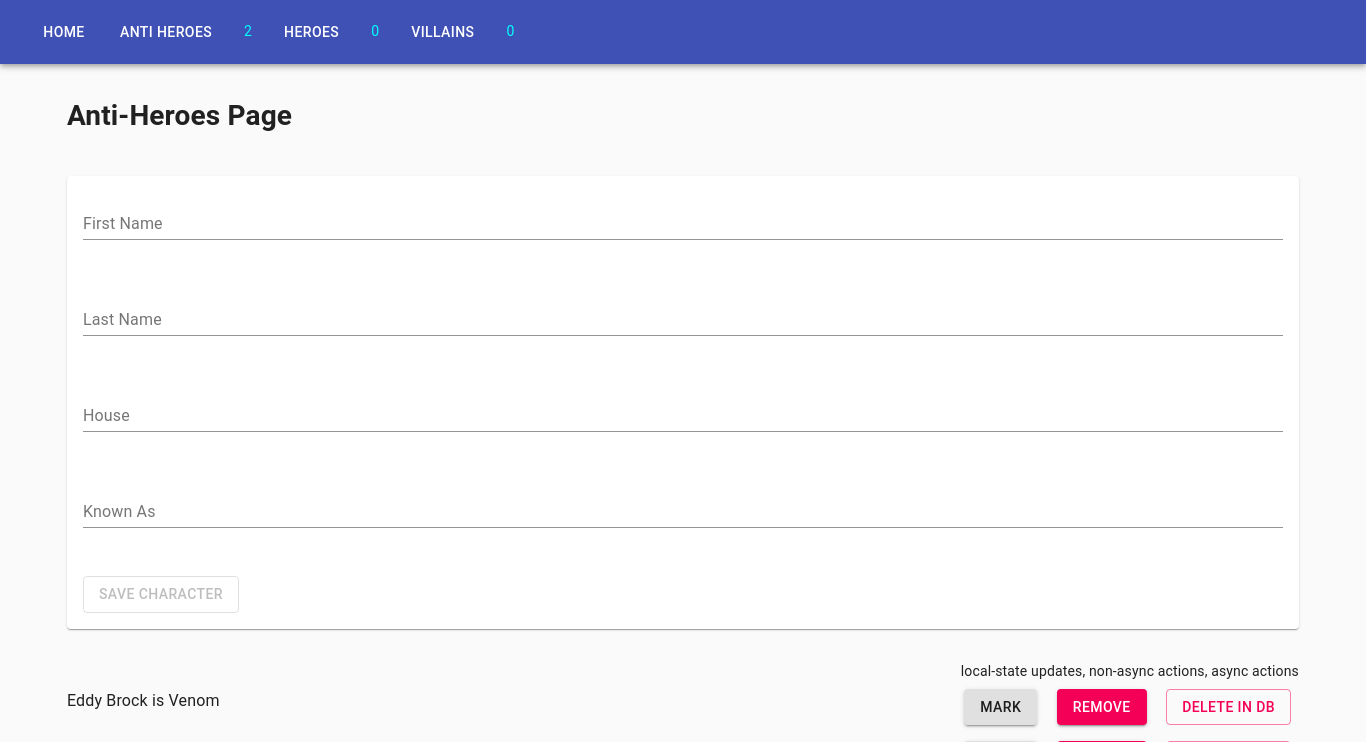
Anti Heroes Page › should remove an anti hero from the store
Click the button with test id "remove-button" in the row of "Eddy Brock is Venom".
click(1102, 707)  # box top-left (1057, 688), bottom-right (1147, 725)
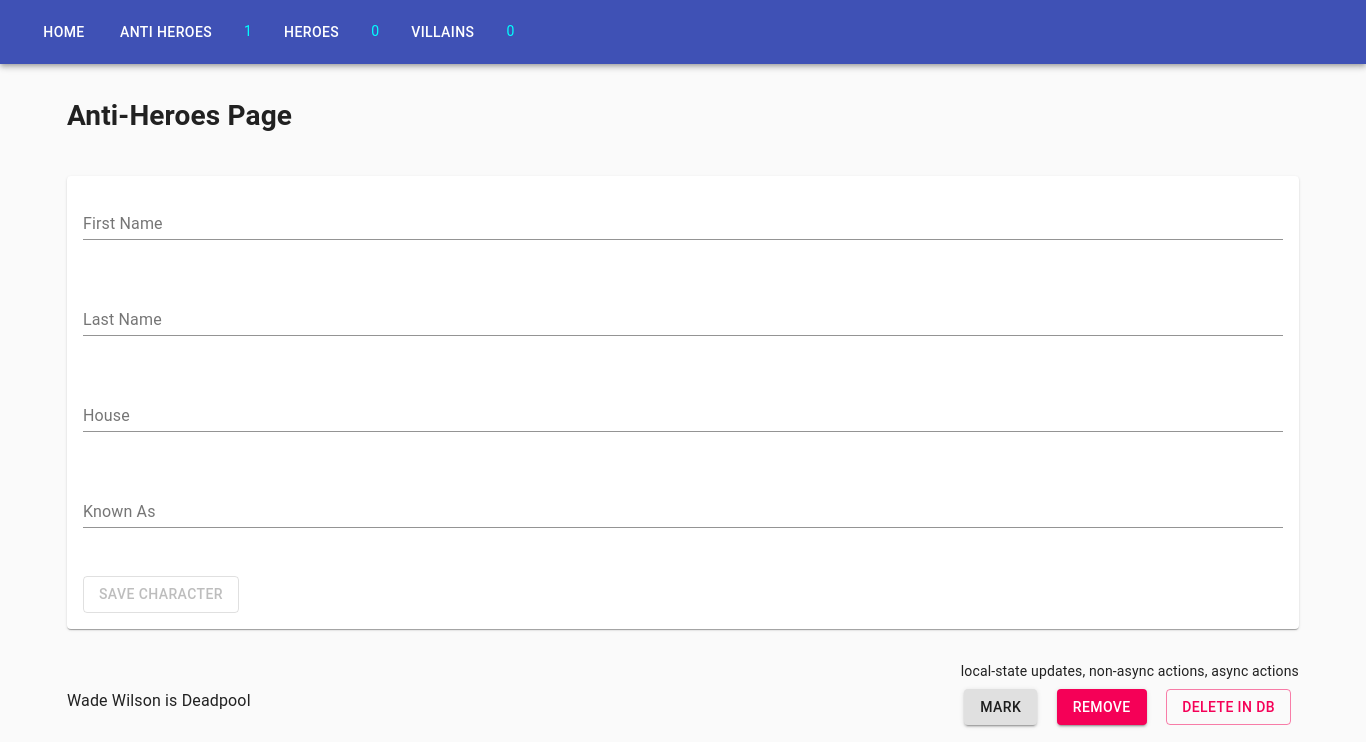
expect the element with test id "card" is shown: met, box top-left (67, 688), bottom-right (1299, 725)
expect the text with test id "total-anti-heroes" reads "1": met, box top-left (244, 23), bottom-right (252, 39)
